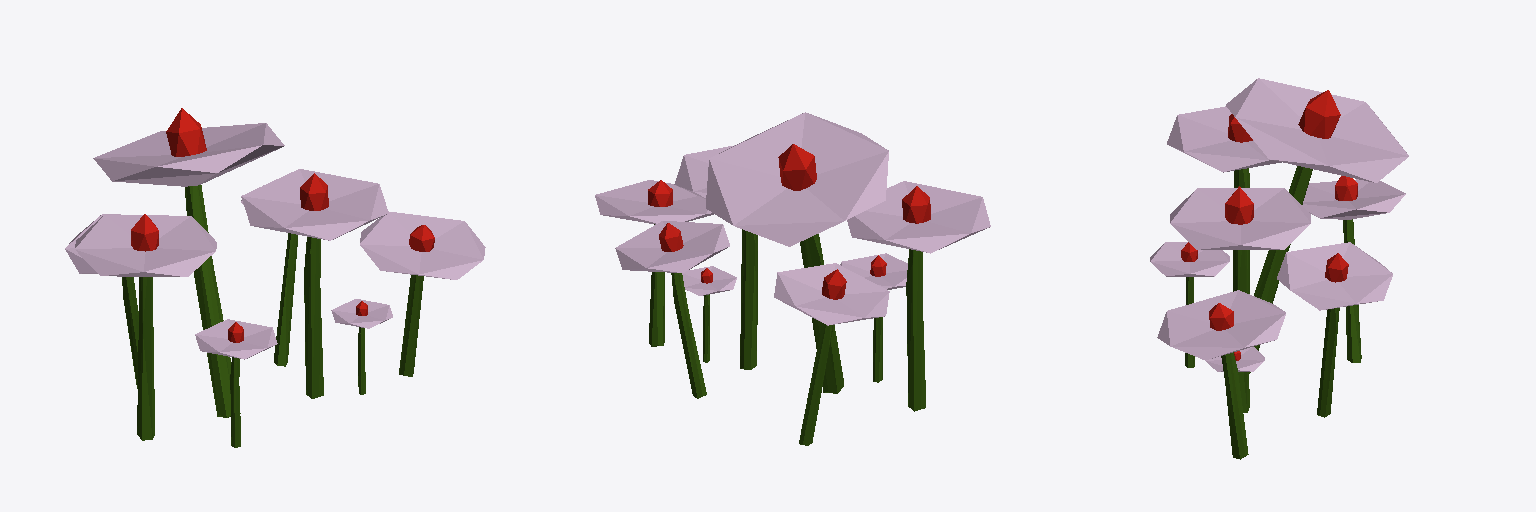
File: flower10.obj
3 renders of one model, left to right at view 1: azimuth 30°, elevation 25°; view 2: azimuth 150°, elevation 25°; view 3: azimuth 270°, elevation 25°, orthographic.
Parts seen in each view (by area): view 1: Flower1-2_Cube.009; view 2: Flower1-2_Cube.009; view 3: Flower1-2_Cube.009.
Boxes of the visible parts, box(x1,y1,x2,y2) form: Flower1-2_Cube.009: box(65, 108, 485, 447); Flower1-2_Cube.009: box(595, 112, 990, 445); Flower1-2_Cube.009: box(1150, 78, 1408, 459).
Size of the model in its own units: 0.7337 by 0.5195 by 0.4283.